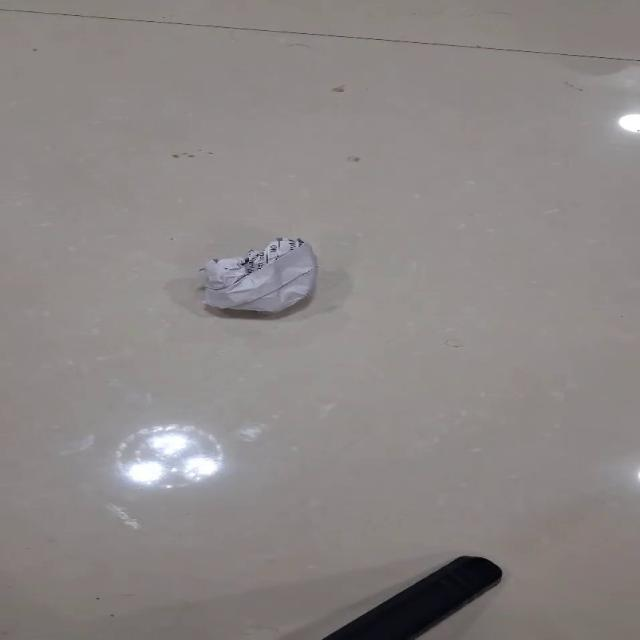paper: (197, 236, 317, 314)
